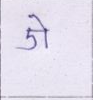e_matra: (28, 14, 50, 30)
